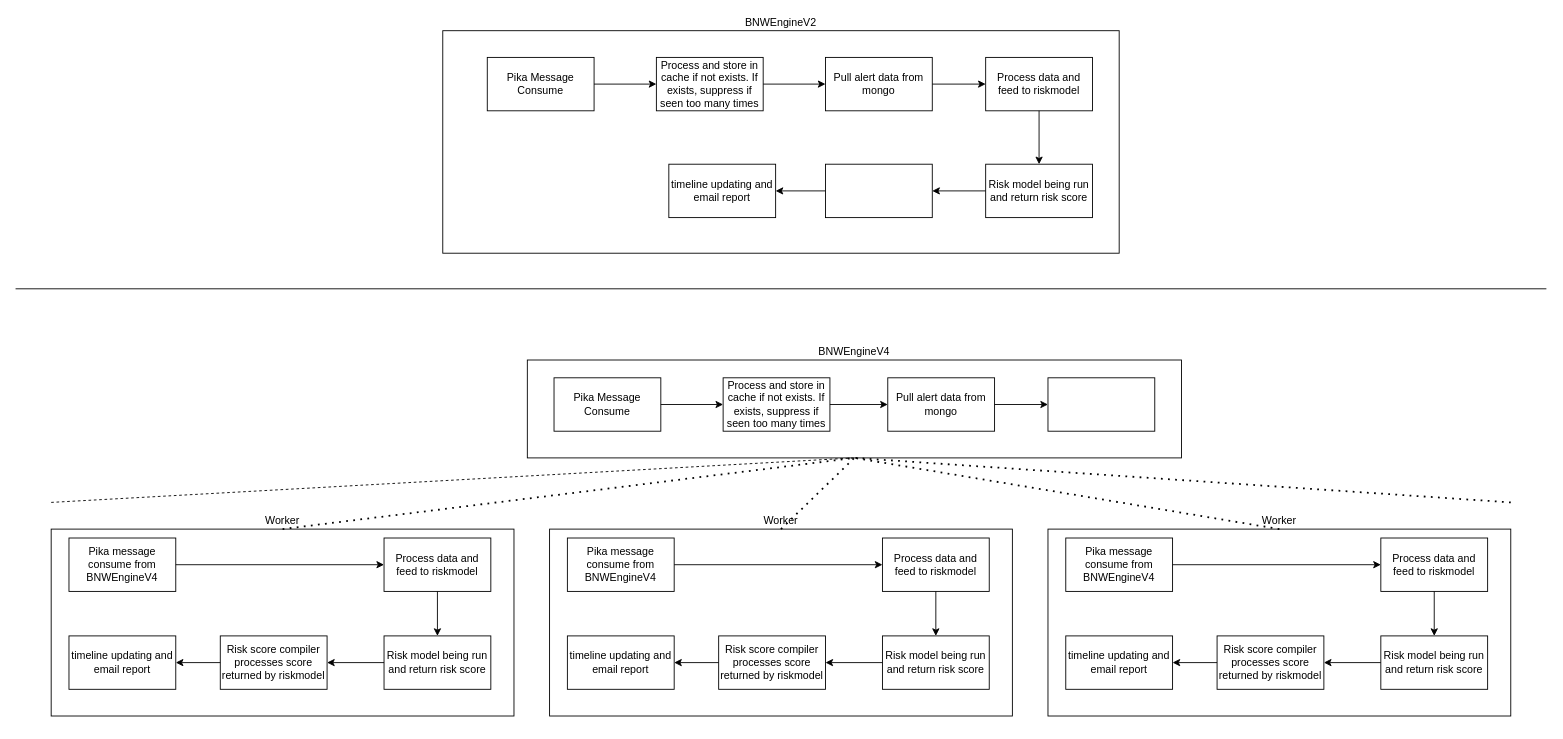
This 1563x739 diagram has some shape labels left out. The shapes that lost their labels are listed below. From the top down, each one's centre as x and y in pixels, then its label:
At (x=878, y=190): "Risk score compiler process score returned by riskmodel".
At (x=1101, y=404): "Pika Message produce to worker according to worker's workload".
